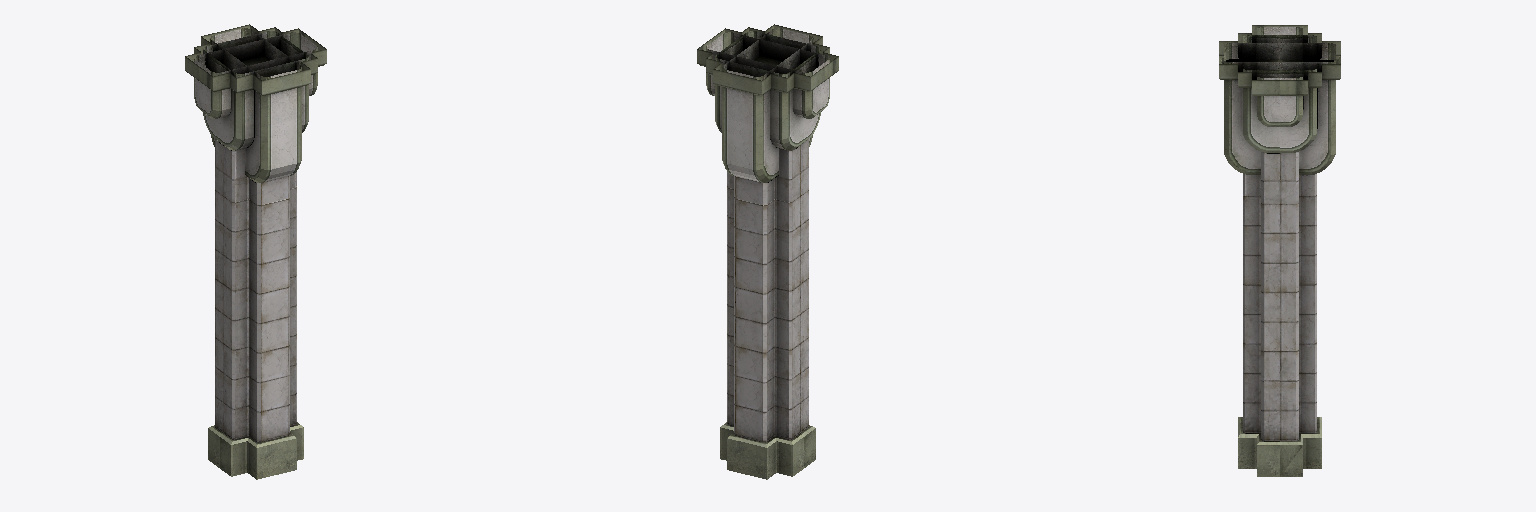
3 views of the same model, side by side, from view 1: azimuth 30°, elevation 25°; view 2: azimuth 150°, elevation 25°; view 3: azimuth 270°, elevation 25° (orthographic).
Visible parts, largest first — view 1: Med_Pillar_Full_ALT; view 2: Med_Pillar_Full_ALT; view 3: Med_Pillar_Full_ALT.
Boxes of the visible parts, x1=… form: Med_Pillar_Full_ALT: x1=185, y1=24, x2=326, y2=479; Med_Pillar_Full_ALT: x1=697, y1=24, x2=838, y2=479; Med_Pillar_Full_ALT: x1=1219, y1=25, x2=1340, y2=476.
Bounding box in the file's own units: 112 × 384 × 104.
Materials: 1 (1 with a texture image).